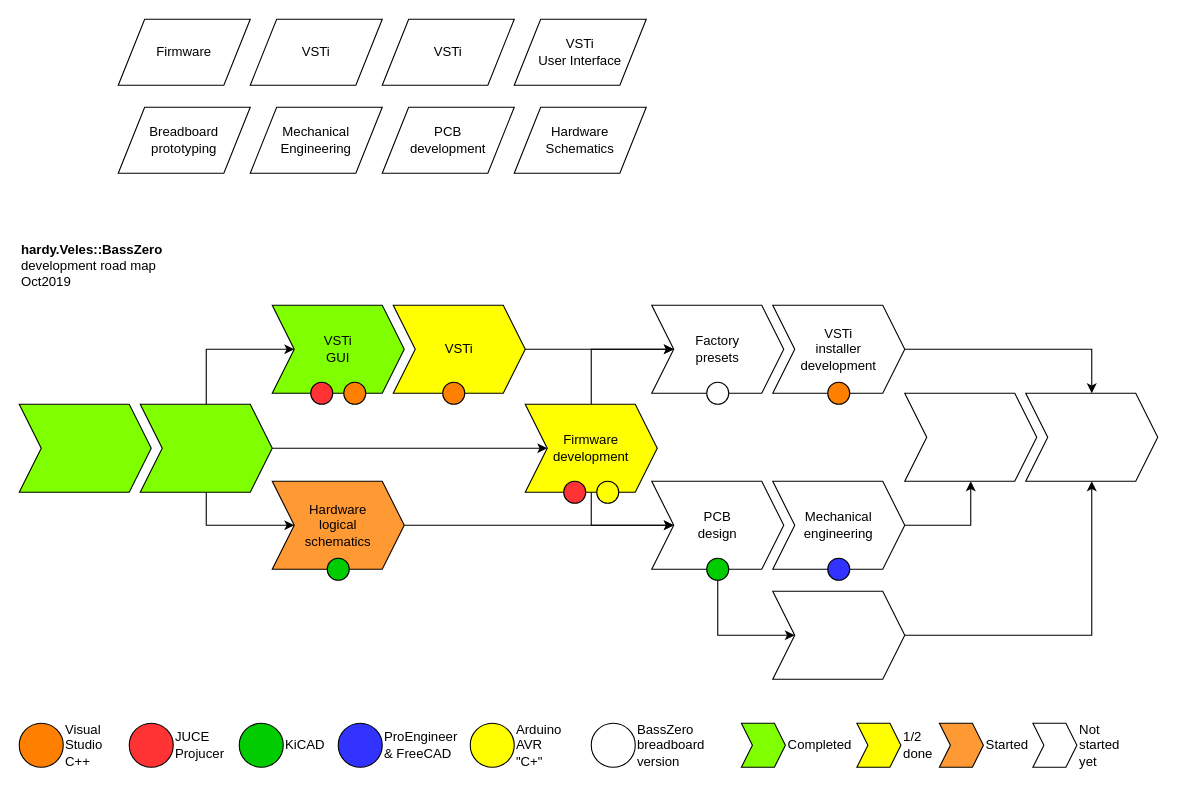
Some shapes in this 1177 by 788 pixel diagram are drawn without their labels. The shapes that lost their labels are listed below. From the top down, each one's centre as x and y in pixels, then its label:
pixel 84 447: Proof of concept
pixel 205 447: Concept & feature specs. adoption
pixel 970 436: Mechanical manufacturing
pixel 1091 436: Product finalization
pixel 838 634: PCB manufacturing
